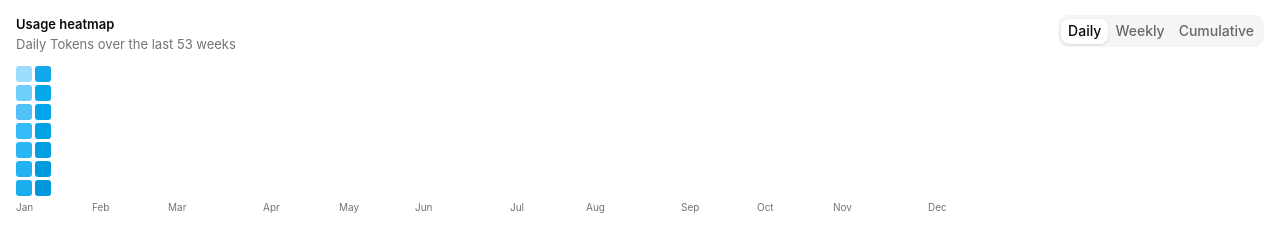
Test: shows full historical cumulative Tokens rather than a seven-day or display-window sum
Step 1. Click the tab "Cumulative" → point(1216, 31), box [1172,18,1261,44]
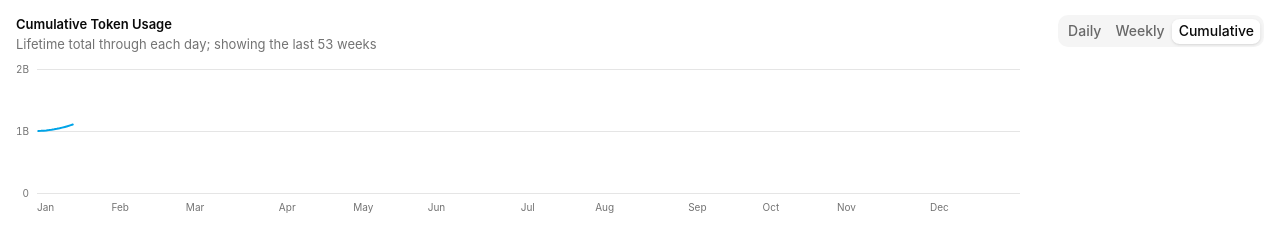
Now the button named "2025-01-01 – 2026-01-12: 1.04B Tokens" is shown, box [56,66,58,196]
Now the button named "2025-01-01 – 2026-01-05: 1.00B Tokens" is shown, box [37,66,40,196]
Now the heading "Cumulative Token Usage" is shown, box [16,16,172,32]
Step 2. Click the tab "Daily" → point(1085, 31), box [1061,18,1108,44]
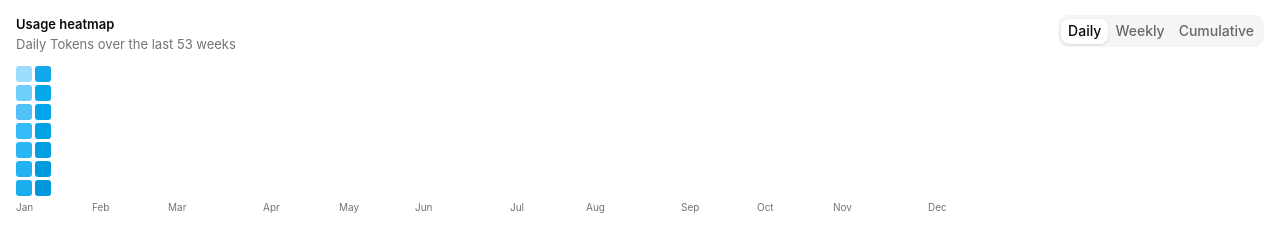
Now the button named "2026-01-05: 1,000,000 Tokens" is shown, box [16,66,32,82]
